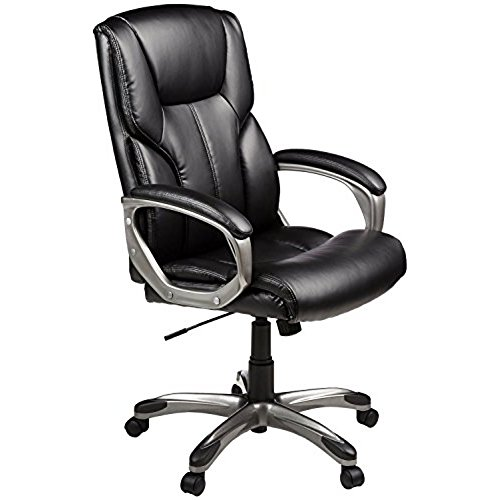chairs: (82, 7, 410, 500)
